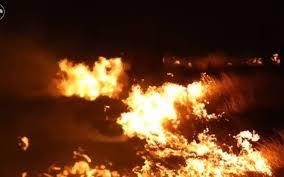fire: (16, 134, 31, 151)
